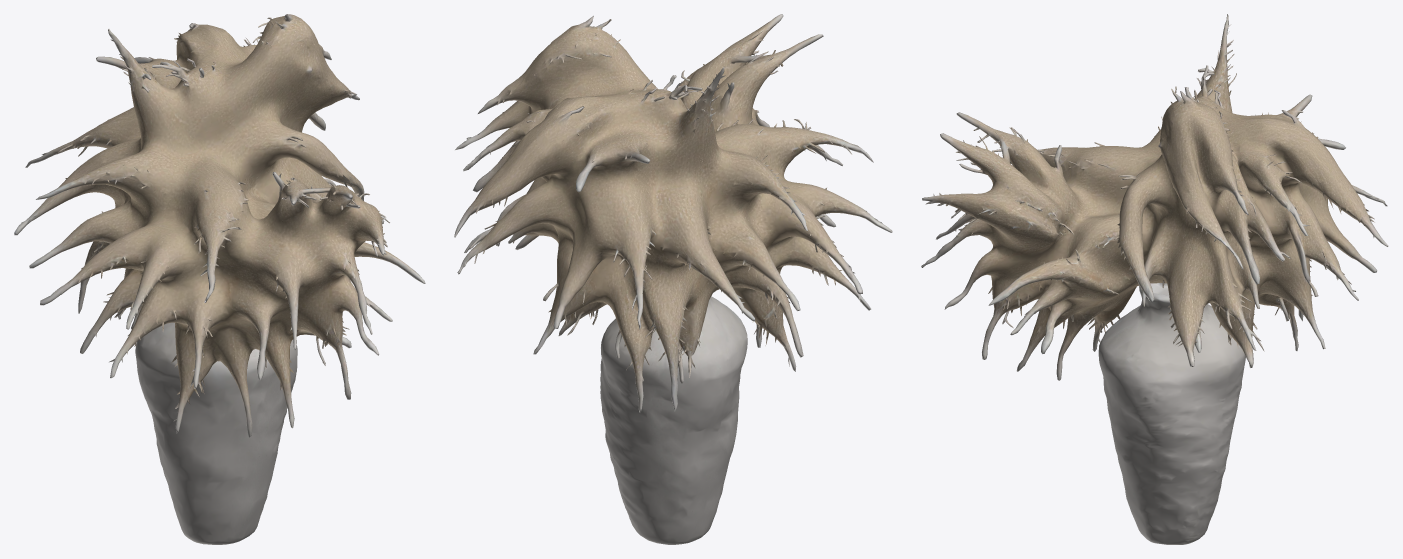
The model's file is decor-vase-pampas.glb.
3 renders of one model, left to right at view 1: azimuth 30°, elevation 25°; view 2: azimuth 150°, elevation 25°; view 3: azimuth 270°, elevation 25°, orthographic. The views are drawn at different scales.
Visible parts, largest first — view 1: tripo_node_69517fb9-e764-4be0-8b2b-db4fef003fbe; view 2: tripo_node_69517fb9-e764-4be0-8b2b-db4fef003fbe; view 3: tripo_node_69517fb9-e764-4be0-8b2b-db4fef003fbe.
Part boxes in pixels (bbox=[...]): tripo_node_69517fb9-e764-4be0-8b2b-db4fef003fbe: bbox=[14, 14, 425, 544]; tripo_node_69517fb9-e764-4be0-8b2b-db4fef003fbe: bbox=[454, 14, 892, 544]; tripo_node_69517fb9-e764-4be0-8b2b-db4fef003fbe: bbox=[921, 14, 1388, 544].
Size of the model in its own units: 0.5267 by 0.7 by 0.6143.
1 material, 1 textured.
